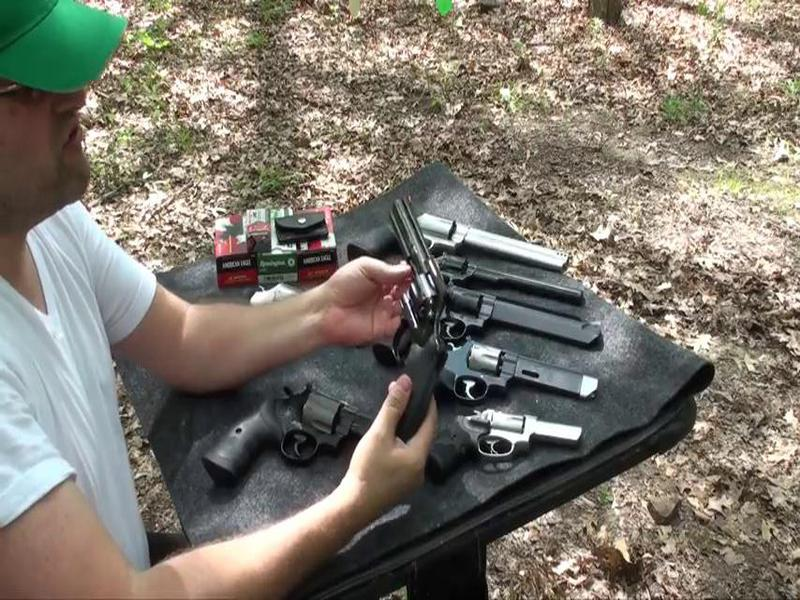Revolver: (339, 185, 447, 386)
